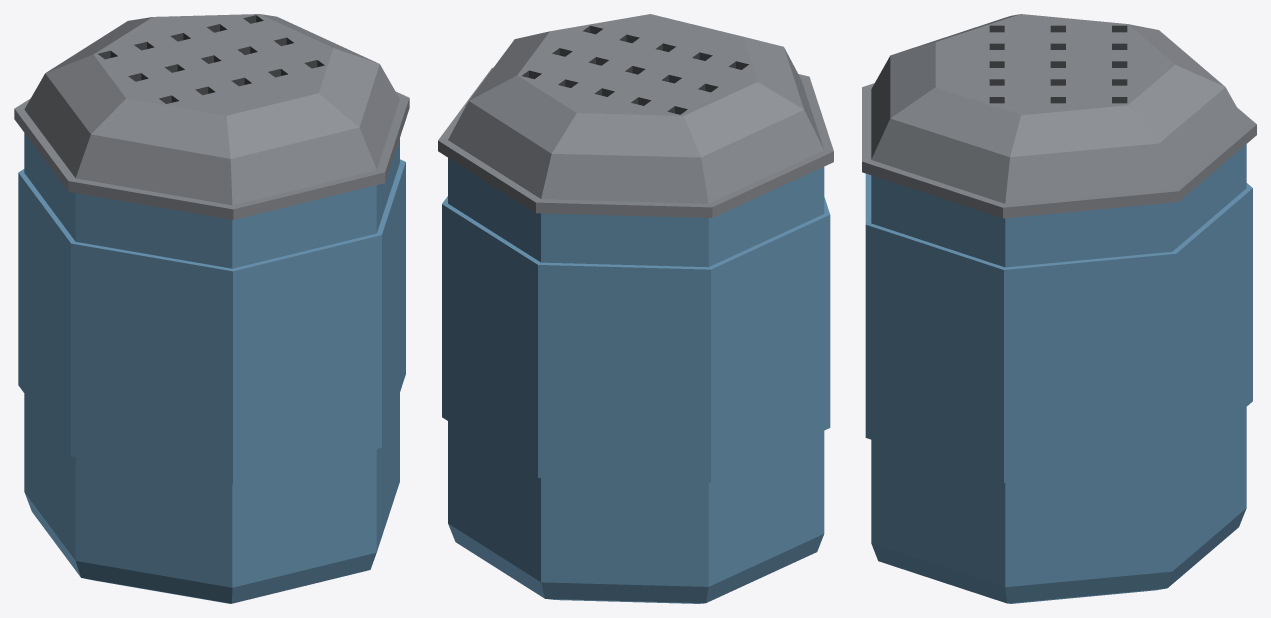
File: sprinkler.fbx
3 views of the same model, side by side, from view 1: azimuth 30°, elevation 25°; view 2: azimuth 150°, elevation 25°; view 3: azimuth 270°, elevation 25° (orthographic).
Parts seen in each view (by area): view 1: sprinkler; view 2: sprinkler; view 3: sprinkler.
Boxes of the visible parts, box(x1,y1,x2,y2) form: sprinkler: box(14, 14, 409, 603); sprinkler: box(438, 14, 833, 603); sprinkler: box(862, 14, 1256, 603).
Size of the model in its own units: 6.31 by 6.31 by 8.3.
